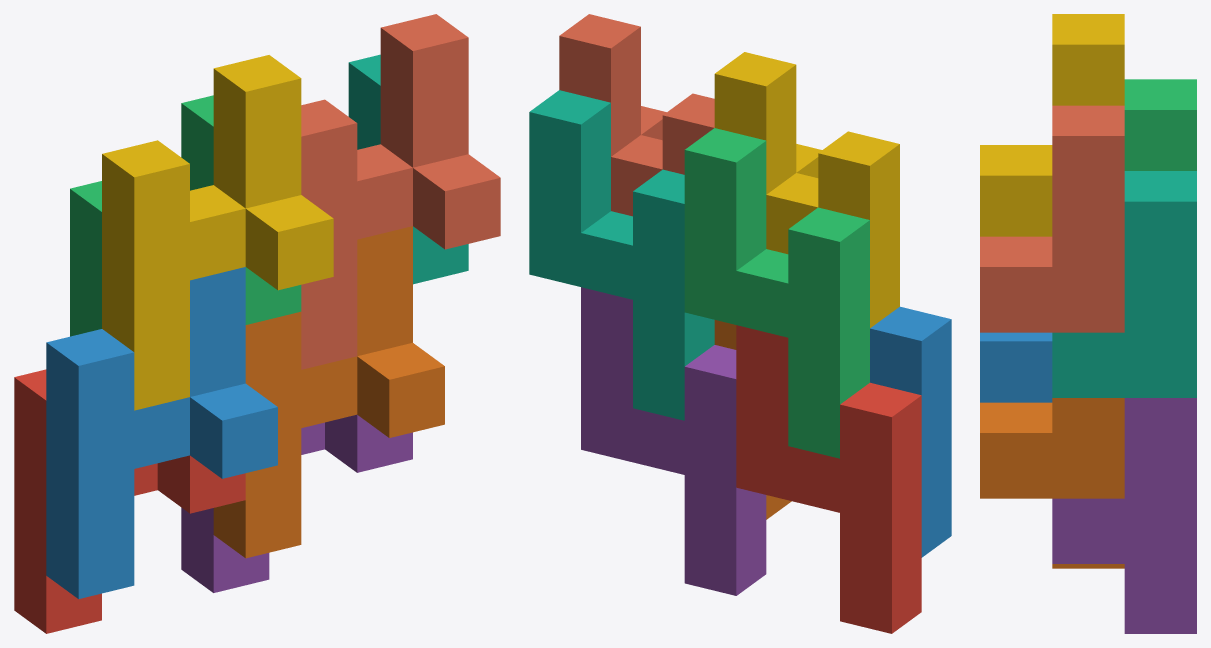
Rendered from tiling.obj.
3 renders of one model, left to right at view 1: azimuth 30°, elevation 25°; view 2: azimuth 150°, elevation 25°; view 3: azimuth 270°, elevation 25°, orthographic. The views are drawn at different scales.
Parts seen in each view (by area): view 1: copy_1_domain_4, copy_1_domain_2, copy_1_domain_8, copy_1_domain_6, copy_1_domain_1, copy_1_domain_3, copy_1_domain_5, copy_1_domain_7; view 2: copy_1_domain_3, copy_1_domain_1, copy_1_domain_7, copy_1_domain_5, copy_1_domain_4, copy_1_domain_8, copy_1_domain_2, copy_1_domain_6; view 3: copy_1_domain_8, copy_1_domain_5, copy_1_domain_7, copy_1_domain_6, copy_1_domain_4, copy_1_domain_3, copy_1_domain_2.
Part boxes in pixels (x1,y1,x2,y2): copy_1_domain_4: (102,55,333,410); copy_1_domain_2: (46,267,277,599); copy_1_domain_8: (301,14,500,369); copy_1_domain_6: (213,226,444,558); copy_1_domain_1: (14,369,245,633); copy_1_domain_3: (70,95,301,336); copy_1_domain_5: (181,414,412,592); copy_1_domain_7: (348,54,468,284); copy_1_domain_3: (684,128,869,458); copy_1_domain_1: (736,325,921,633); copy_1_domain_7: (529,90,714,420); copy_1_domain_5: (581,287,766,595); copy_1_domain_4: (714,52,899,327); copy_1_domain_8: (559,14,714,216); copy_1_domain_2: (870,306,951,557); copy_1_domain_6: (714,320,791,519); copy_1_domain_8: (980,105,1124,332); copy_1_domain_5: (1052,398,1196,633); copy_1_domain_7: (1052,171,1196,397); copy_1_domain_6: (980,398,1124,568); copy_1_domain_4: (980,14,1124,236); copy_1_domain_3: (1124,79,1196,170); copy_1_domain_2: (980,332,1052,402).
Size of the model in its own units: 7 by 9 by 3.
